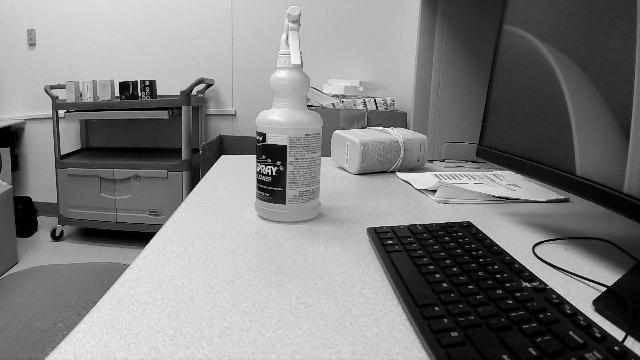StarSpray: (255, 7, 325, 224)
